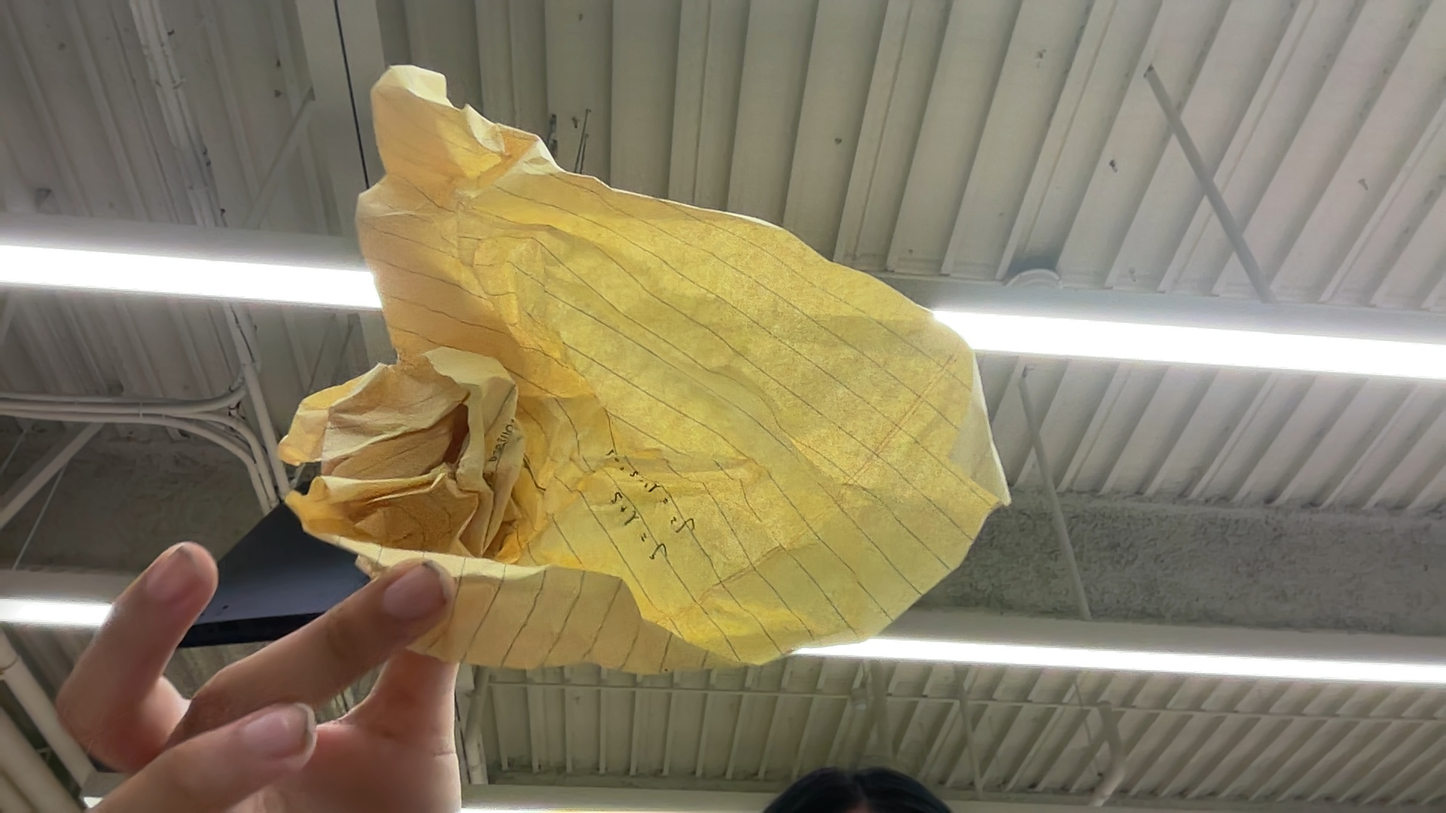Paper: (333, 27, 1026, 666)
